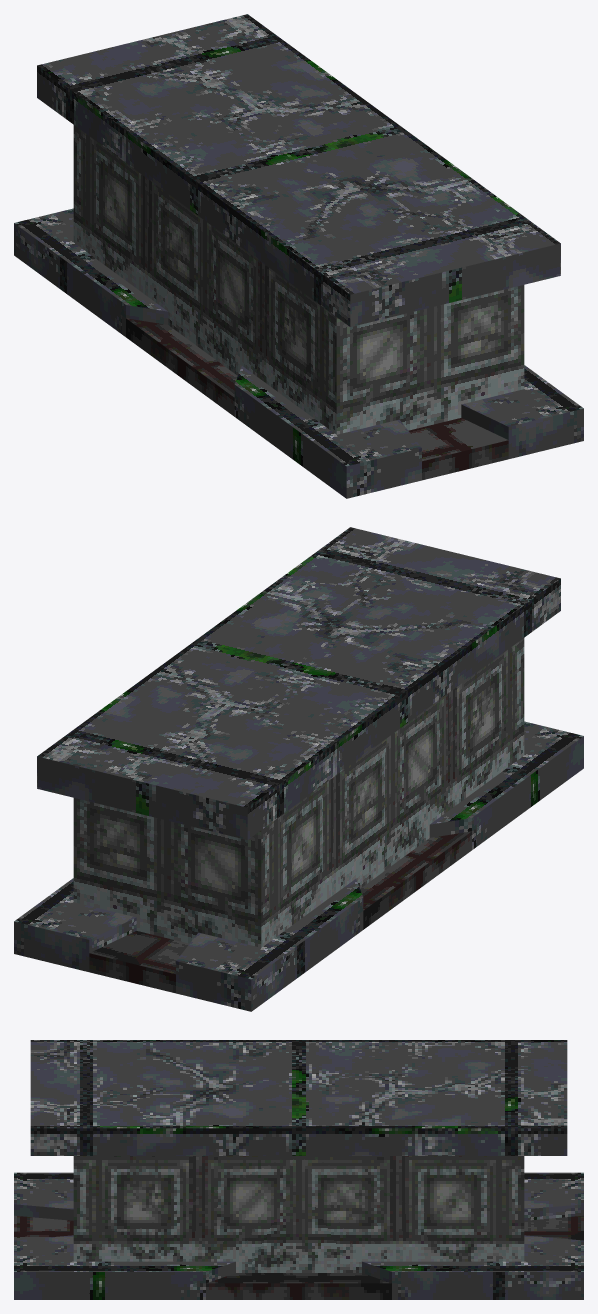
The model's file is tomb_03.gltf.
The picture shows the model from 3 angles, top to bottom: view 1: azimuth 30°, elevation 25°; view 2: azimuth 150°, elevation 25°; view 3: azimuth 270°, elevation 25°; orthographic projection. The views are drawn at different scales.
Parts seen in each view (by area): view 1: tomb_03, tomb_slab_03; view 2: tomb_03, tomb_slab_03; view 3: tomb_03, tomb_slab_03.
Part boxes in pixels (left/top/right/bottom): tomb_03: left=14, top=125, right=583, bottom=498; tomb_slab_03: left=37, top=14, right=560, bottom=326; tomb_03: left=14, top=638, right=583, bottom=1011; tomb_slab_03: left=37, top=527, right=560, bottom=839; tomb_03: left=14, top=1156, right=583, bottom=1299; tomb_slab_03: left=30, top=1040, right=567, bottom=1155.
Size of the model in its own units: 1.15 by 0.8968 by 2.79.
1 material, 1 textured.
